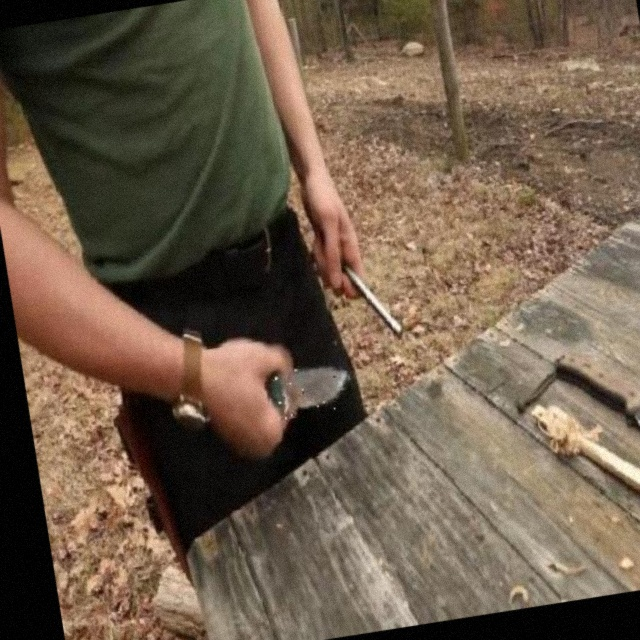Sharp-Object: (264, 360, 355, 421)
